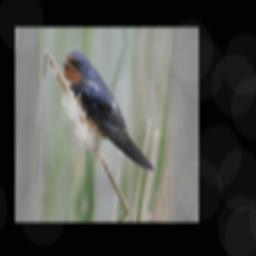Swallow: (53, 47, 164, 171)
